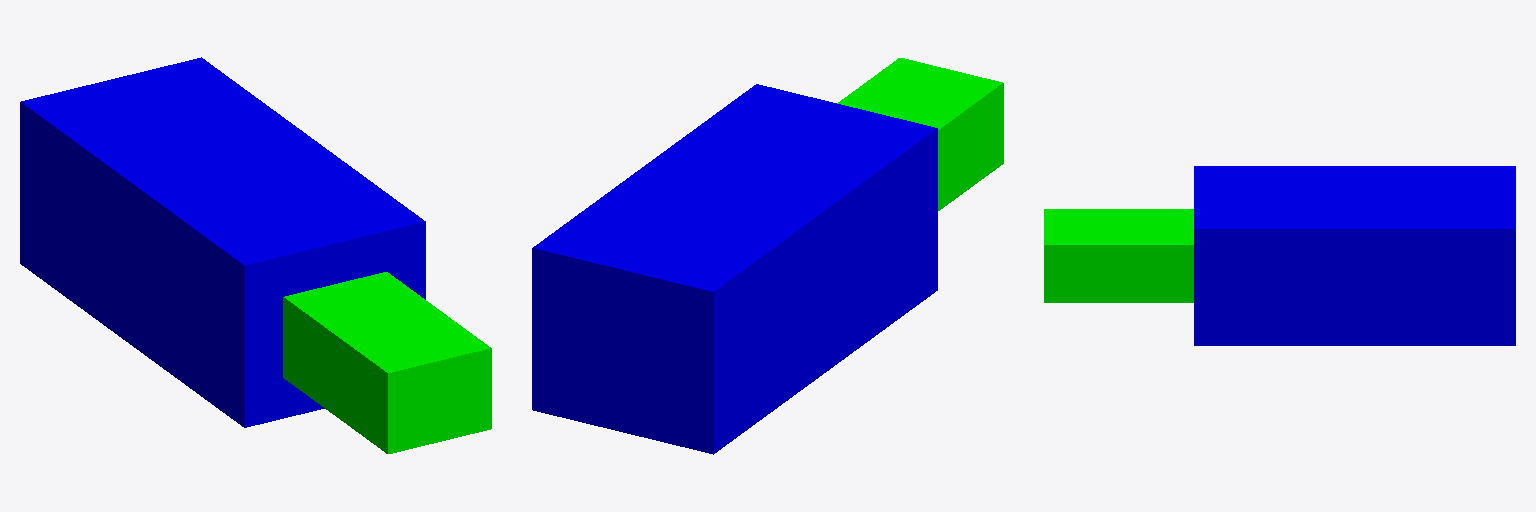
URDF robot description (robot):
<robot name = "robot">
    <link name="root">
        <inertial>
            <origin xyz="0.0 0.0 1.5" rpy="0 0 0"/>
            <mass value="1" />
            <inertia ixx="100" ixy="0" ixz="0" iyy="100" iyz="0" izz="100" />
        </inertial>
        <visual>
            <origin xyz="0.0 0.0 1.5" rpy="0 0 0"/>
            <geometry>
                <box size="0 0 0.0001" />
            </geometry>
            <material name="Green">
                <color rgba="0 1.0 0.0 1.0"/>
            </material>
        </visual>
        <collision>
            <origin xyz="0.0 0.0 1.5" rpy="0 0 0"/>
            <geometry>
                <box size="0 0 0.0001" />
            </geometry>
        </collision>
    </link>
    <joint name="root_000" type="revolute">
       <parent link="root"/>
       <child  link="000"/>
       <origin rpy="0 0 0" xyz="0.0 0.0 1.5" />
     <axis xyz="1 0 0"/>
       <limit effort="0.0" lower="-3.14159" upper="3.14159" velocity="0.0"/>
    </joint>
    <link name="000">
        <inertial>
            <origin xyz="0.0 0.35 0.0" rpy="0 0 0"/>
            <mass value="1" />
            <inertia ixx="100" ixy="0" ixz="0" iyy="100" iyz="0" izz="100" />
        </inertial>
        <visual>
            <origin xyz="0.0 0.35 0.0" rpy="0 0 0"/>
            <geometry>
                <box size="0.4 0.7 0.3" />
            </geometry>
            <material name="Green">
                <color rgba="0 1.0 0.0 1.0"/>
            </material>
        </visual>
        <collision>
            <origin xyz="0.0 0.35 0.0" rpy="0 0 0"/>
            <geometry>
                <box size="0.4 0.7 0.3" />
            </geometry>
        </collision>
    </link>
    <joint name="000_000-100" type="revolute">
       <parent link="000"/>
       <child  link="000-100"/>
       <origin rpy="0 0 0" xyz="0.0 0.7 -0.0" />
     <axis xyz="0 1 0"/>
       <limit effort="0.0" lower="-3.14159" upper="3.14159" velocity="0.0"/>
    </joint>
    <link name="000-100">
        <inertial>
            <origin xyz="0.0 0.25 -0.0" rpy="0 0 0"/>
            <mass value="1" />
            <inertia ixx="100" ixy="0" ixz="0" iyy="100" iyz="0" izz="100" />
        </inertial>
        <visual>
            <origin xyz="0.0 0.25 -0.0" rpy="0 0 0"/>
            <geometry>
                <box size="0.7 0.5 0.6" />
            </geometry>
            <material name="Blue">
                <color rgba="0 0.0 1.0 1.0"/>
            </material>
        </visual>
        <collision>
            <origin xyz="0.0 0.25 -0.0" rpy="0 0 0"/>
            <geometry>
                <box size="0.7 0.5 0.6" />
            </geometry>
        </collision>
    </link>
    <joint name="000-100_000-110" type="revolute">
       <parent link="000-100"/>
       <child  link="000-110"/>
       <origin rpy="0 0 0" xyz="0.0 0.5 -0.0" />
     <axis xyz="0 1 0"/>
       <limit effort="0.0" lower="-3.14159" upper="3.14159" velocity="0.0"/>
    </joint>
    <link name="000-110">
        <inertial>
            <origin xyz="0.0 0.25 -0.0" rpy="0 0 0"/>
            <mass value="1" />
            <inertia ixx="100" ixy="0" ixz="0" iyy="100" iyz="0" izz="100" />
        </inertial>
        <visual>
            <origin xyz="0.0 0.25 -0.0" rpy="0 0 0"/>
            <geometry>
                <box size="0.7 0.5 0.6" />
            </geometry>
            <material name="Blue">
                <color rgba="0 0.0 1.0 1.0"/>
            </material>
        </visual>
        <collision>
            <origin xyz="0.0 0.25 -0.0" rpy="0 0 0"/>
            <geometry>
                <box size="0.7 0.5 0.6" />
            </geometry>
        </collision>
    </link>
    <joint name="000-110_000-120" type="revolute">
       <parent link="000-110"/>
       <child  link="000-120"/>
       <origin rpy="0 0 0" xyz="0.0 0.5 -0.0" />
     <axis xyz="0 1 0"/>
       <limit effort="0.0" lower="-3.14159" upper="3.14159" velocity="0.0"/>
    </joint>
    <link name="000-120">
        <inertial>
            <origin xyz="0.0 0.25 -0.0" rpy="0 0 0"/>
            <mass value="1" />
            <inertia ixx="100" ixy="0" ixz="0" iyy="100" iyz="0" izz="100" />
        </inertial>
        <visual>
            <origin xyz="0.0 0.25 -0.0" rpy="0 0 0"/>
            <geometry>
                <box size="0.7 0.5 0.6" />
            </geometry>
            <material name="Blue">
                <color rgba="0 0.0 1.0 1.0"/>
            </material>
        </visual>
        <collision>
            <origin xyz="0.0 0.25 -0.0" rpy="0 0 0"/>
            <geometry>
                <box size="0.7 0.5 0.6" />
            </geometry>
        </collision>
    </link>
</robot>

--- Facts derived from the render (not from the file) ---
3 views of the same robot in one strip: view 1: azimuth 30°, elevation 25°; view 2: azimuth 150°, elevation 25°; view 3: azimuth 270°, elevation 25° (orthographic).
Model robot with 5 links and 4 joints (4 revolute), rooted at root, posed all joints at 0.
Links seen in each view (by area): view 1: 000-100, 000, 000-110, 000-120; view 2: 000-120, 000-110, 000-100, 000; view 3: 000-120, 000-100, 000-110, 000.
Link boxes in pixels (left/top/right/bottom): 000-100: left=170, top=167, right=425, bottom=427; 000: left=283, top=272, right=491, bottom=453; 000-110: left=95, top=112, right=350, bottom=372; 000-120: left=20, top=57, right=275, bottom=317; 000-120: left=532, top=193, right=787, bottom=454; 000-110: left=608, top=139, right=862, bottom=399; 000-100: left=682, top=84, right=937, bottom=344; 000: left=837, top=58, right=1003, bottom=210; 000-120: left=1408, top=166, right=1515, bottom=345; 000-100: left=1194, top=166, right=1300, bottom=345; 000-110: left=1301, top=166, right=1407, bottom=345; 000: left=1044, top=209, right=1193, bottom=302.
Size in the robot's own frame: 0.7 by 2.2 by 0.6 metres.
Geometry: primitives only (box / cylinder / sphere), no mesh files.
